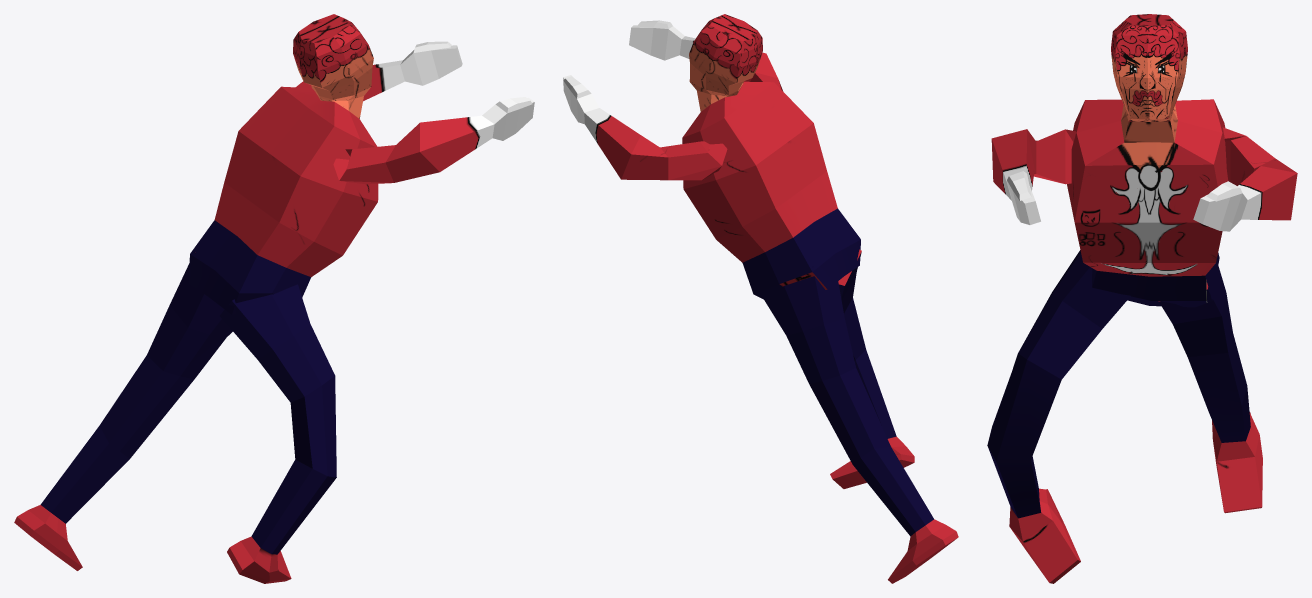
Rendered from GrimpePillier.fbx.
3 views of the same model, side by side, from view 1: azimuth 30°, elevation 25°; view 2: azimuth 150°, elevation 25°; view 3: azimuth 270°, elevation 25° (orthographic). The views are drawn at different scales.
Visible parts, largest first — view 1: Cube.001; view 2: Cube.001; view 3: Cube.001.
Boxes of the visible parts, bbox=[...] form: Cube.001: bbox=[14, 14, 534, 583]; Cube.001: bbox=[563, 14, 958, 583]; Cube.001: bbox=[987, 14, 1297, 583].
Size of the model in its own units: 347 by 401 by 180.
